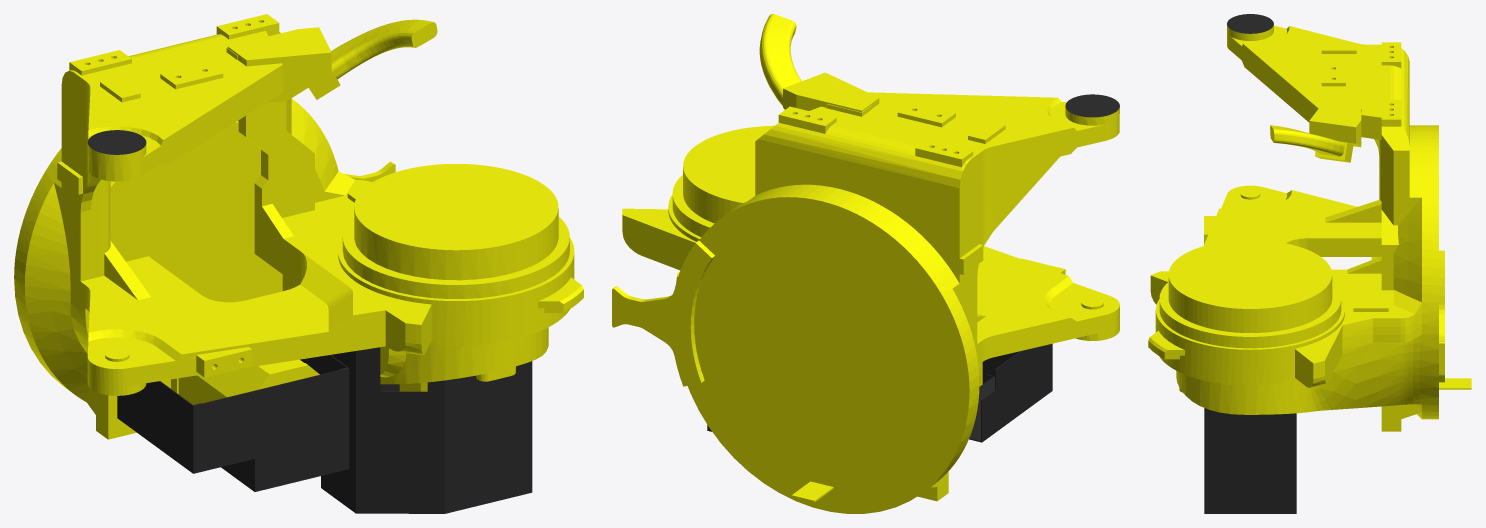
3 views of the same model, side by side, from view 1: azimuth 30°, elevation 25°; view 2: azimuth 150°, elevation 25°; view 3: azimuth 270°, elevation 25° (orthographic). The views are drawn at different scales.
Visible parts, largest first — view 1: node; view 2: node; view 3: node.
Boxes of the visible parts, x1,y1,x2,y2 form: node: [14, 14, 583, 513]; node: [612, 14, 1119, 513]; node: [1148, 14, 1471, 513].
Bounding box in the file's own units: 930 × 816 × 660.
